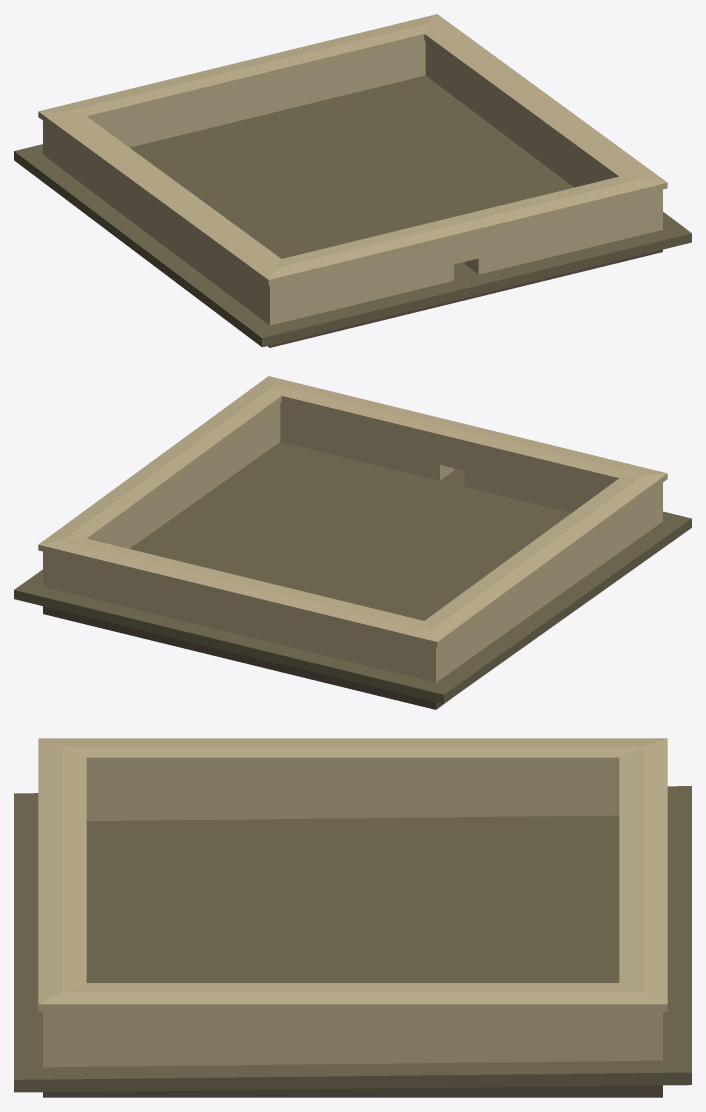
Rendered from rpg-mansion-flat-parapet-roof-cap-01.glb.
The picture shows the model from 3 angles, top to bottom: view 1: azimuth 30°, elevation 25°; view 2: azimuth 150°, elevation 25°; view 3: azimuth 270°, elevation 25°; orthographic projection. The views are drawn at different scales.
Parts seen in each view (by area): view 1: rpg-mansion-flat-parapet-roof-cap-01; view 2: rpg-mansion-flat-parapet-roof-cap-01; view 3: rpg-mansion-flat-parapet-roof-cap-01.
Part boxes in pixels (left/top/right/bottom): rpg-mansion-flat-parapet-roof-cap-01: left=14, top=14, right=691, bottom=347; rpg-mansion-flat-parapet-roof-cap-01: left=14, top=376, right=691, bottom=709; rpg-mansion-flat-parapet-roof-cap-01: left=14, top=738, right=691, bottom=1097.
Size of the model in its own units: 4.2 by 0.665 by 4.2.
